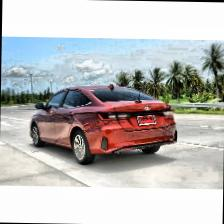NON-EV: (28, 79, 180, 170)
